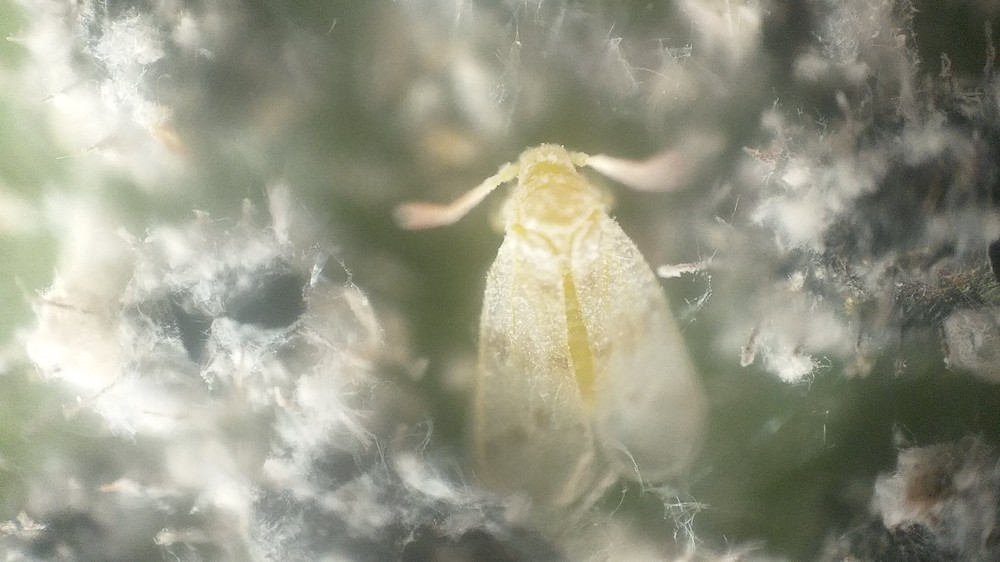Mosca Blanca: (402, 131, 765, 507)
